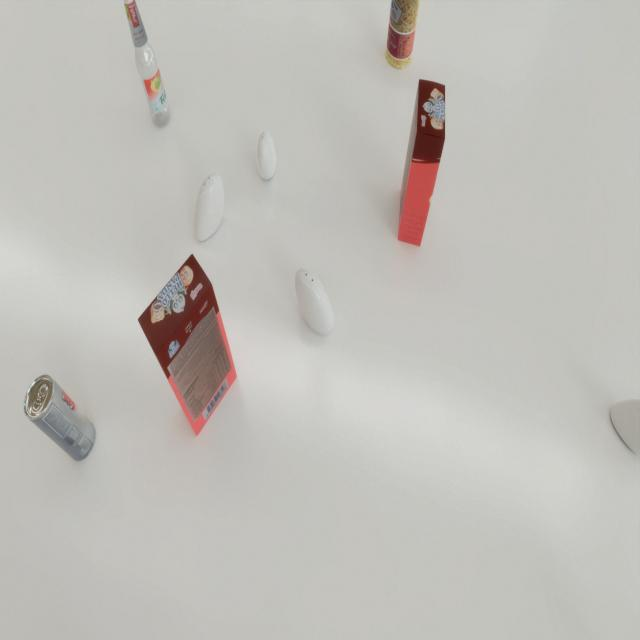Bottle: (120, 0, 170, 127)
HelloPanda: (138, 254, 237, 436), (398, 79, 445, 247)
Potato_sticks: (385, 0, 421, 69)
Rita_zero_sugar: (23, 374, 96, 461)
Salt: (294, 268, 334, 334), (193, 172, 224, 242), (256, 131, 276, 180)
